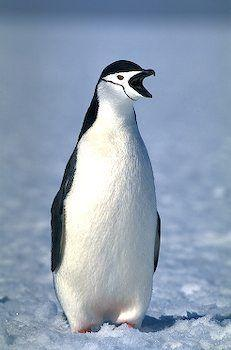chinstrap: (30, 51, 187, 340)
